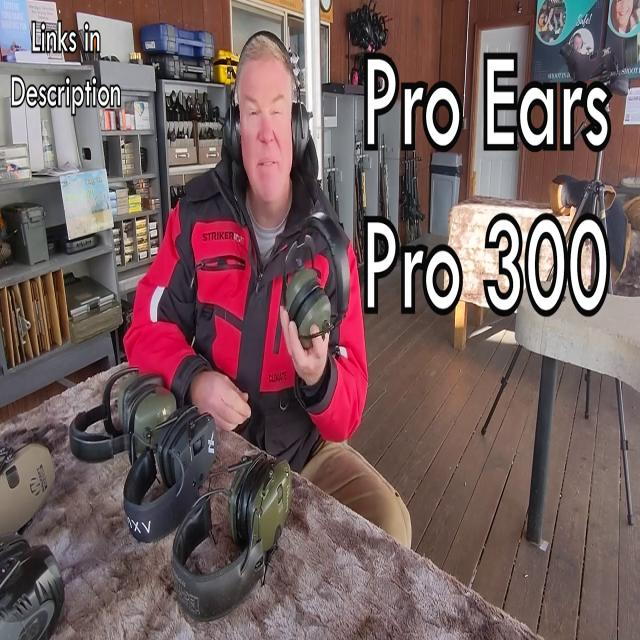earmuff: (289, 97, 314, 171), (222, 102, 244, 164)
